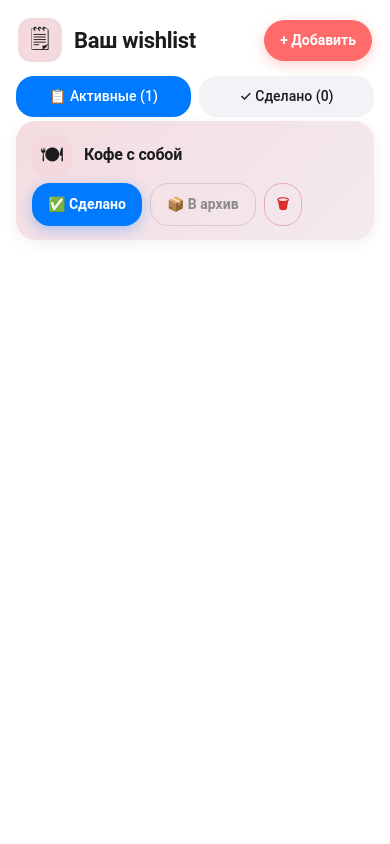
Test: Wishlist — destructive confirm (delete modal) › tapping 🗑 opens a confirm modal; cancel keeps the row
Click the button named "Удалить" at [283, 204], box [264,183,302,226]
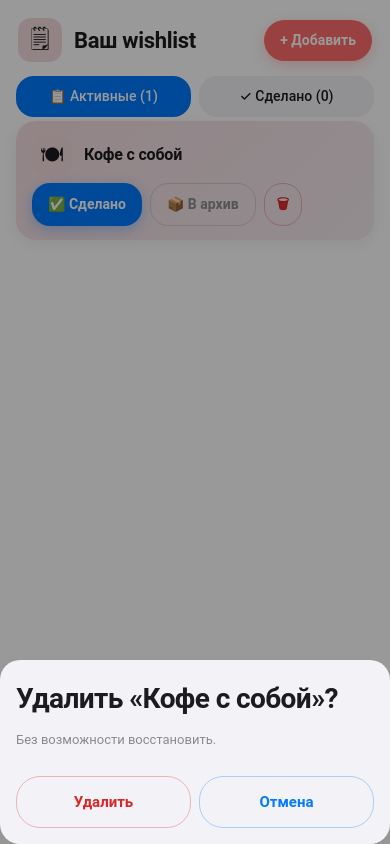
Expected: the heading "Удалить «Кофе с собой»?" is shown, [16,676,374,724]
Click the button "Отмена" at [286, 802], box [199,776,374,828]
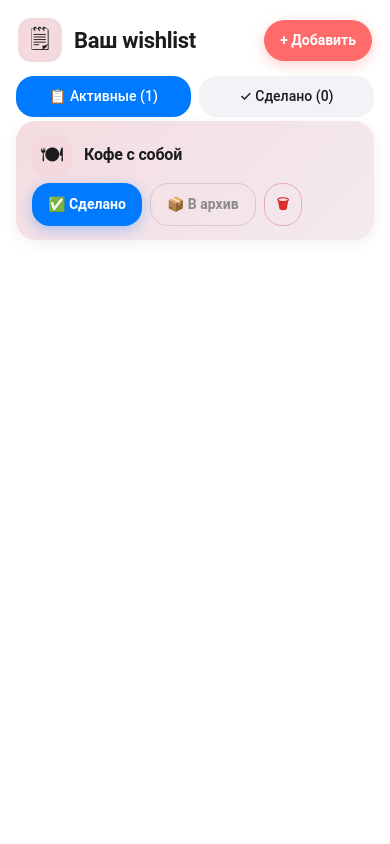
Expected: the text "Кофе с собой" is shown, [84,145,182,164]
Expected: the heading "Удалить «Кофе с собой»" is gone
